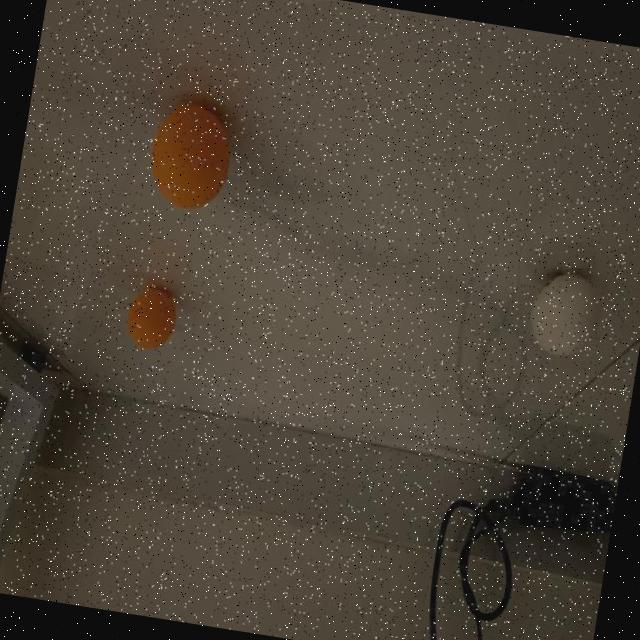ping-pong-ball: (142, 94, 238, 214), (523, 263, 604, 361), (121, 283, 179, 356)
